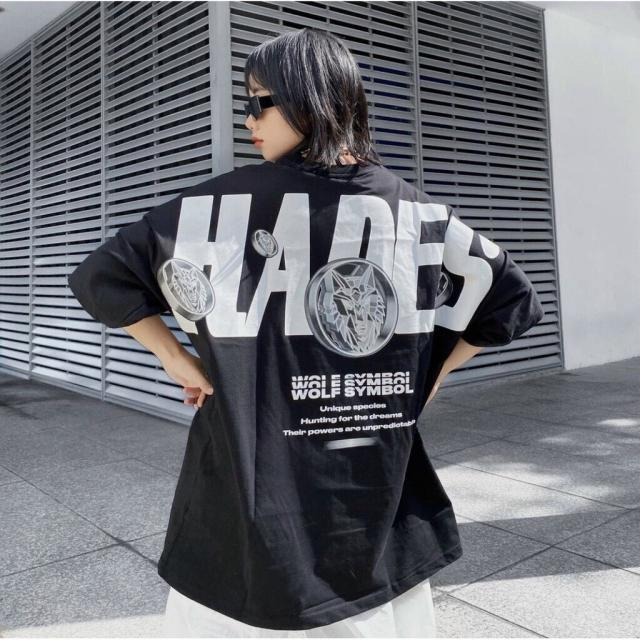Shirt: (66, 146, 548, 626)
